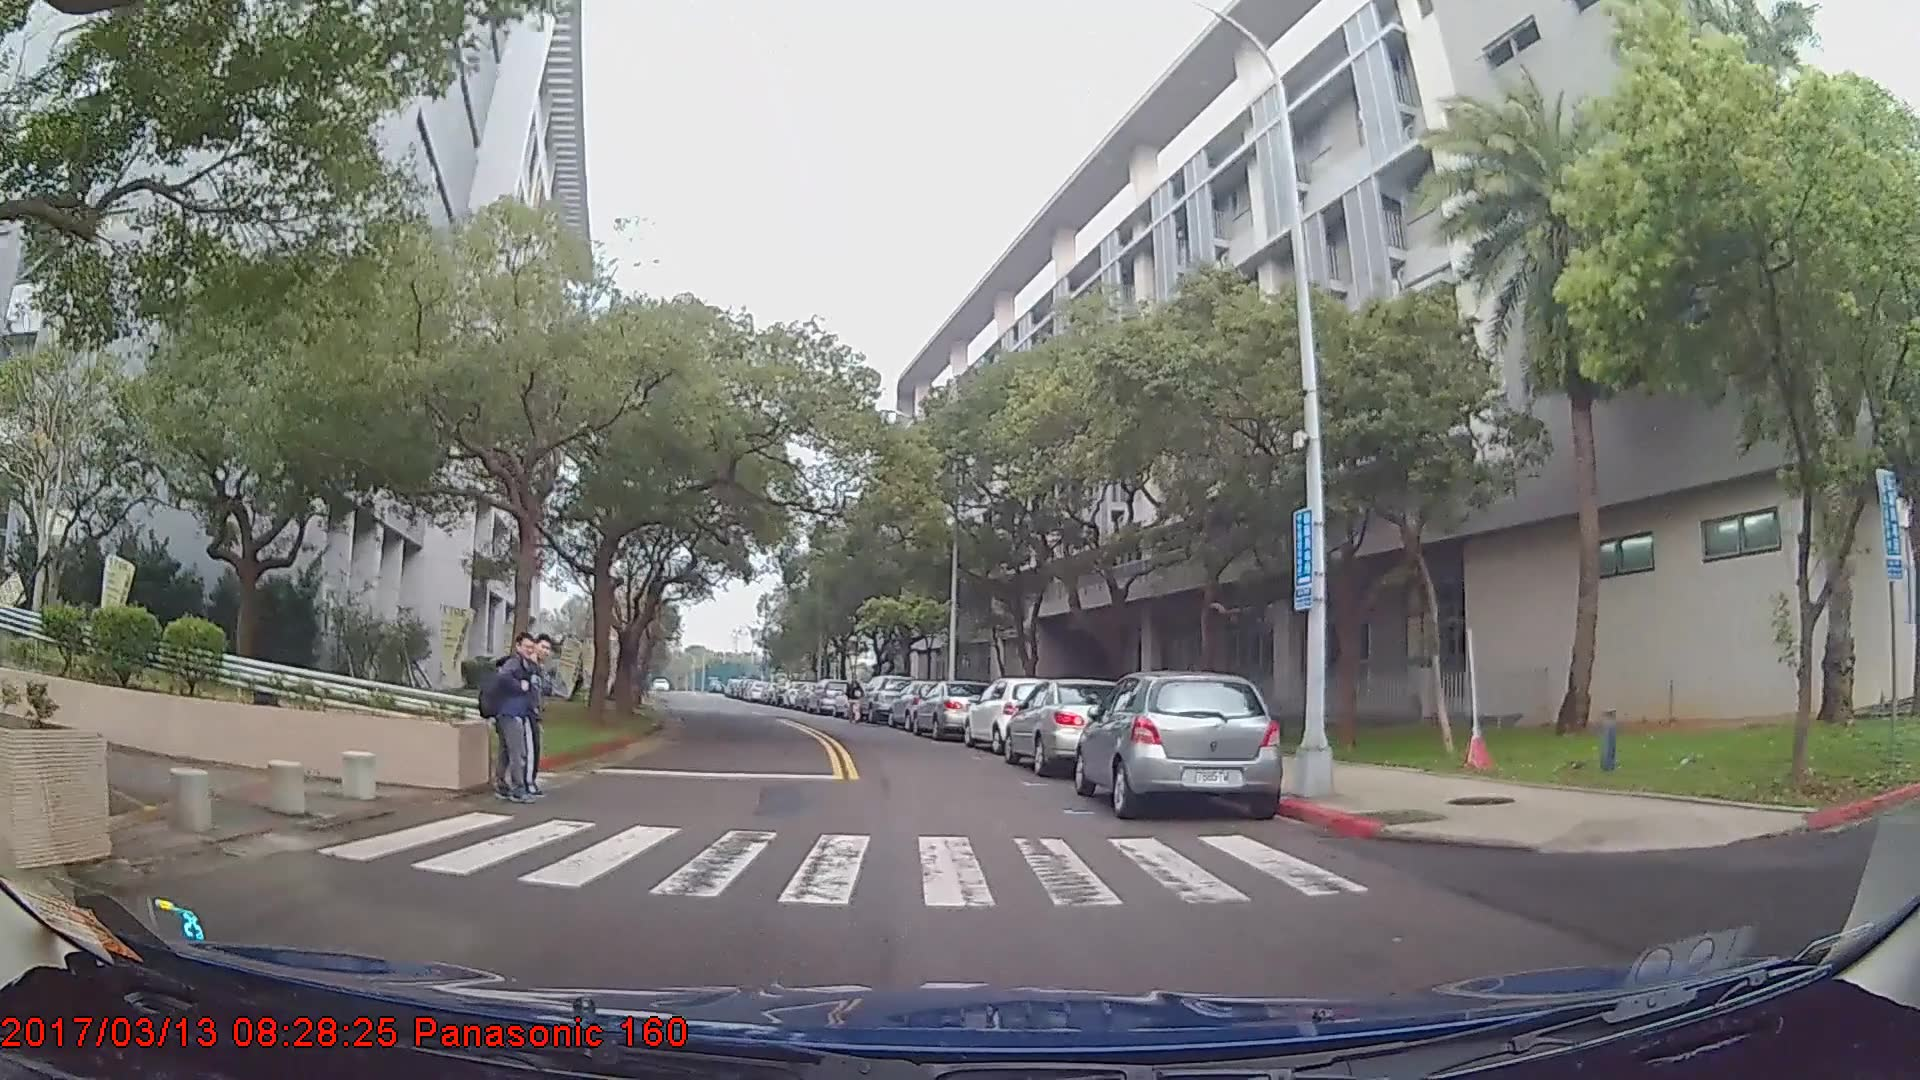pedestrian: (475, 628, 546, 814), (847, 676, 868, 726)
vehicle: (1074, 672, 1284, 824), (1002, 678, 1135, 778), (961, 676, 1060, 755), (910, 678, 996, 741), (856, 673, 916, 722), (806, 677, 848, 715)
